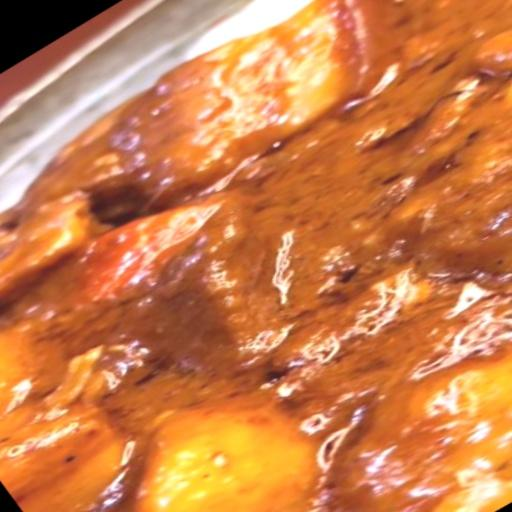pork caldereta: (0, 0, 511, 511)
